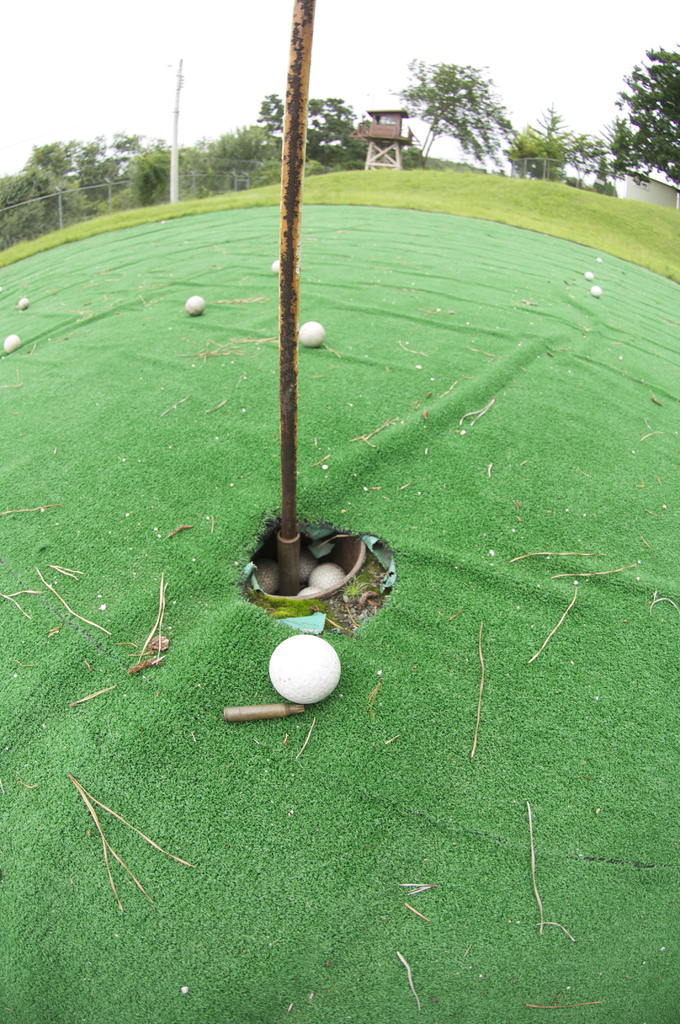Tree: (0, 42, 679, 252)
